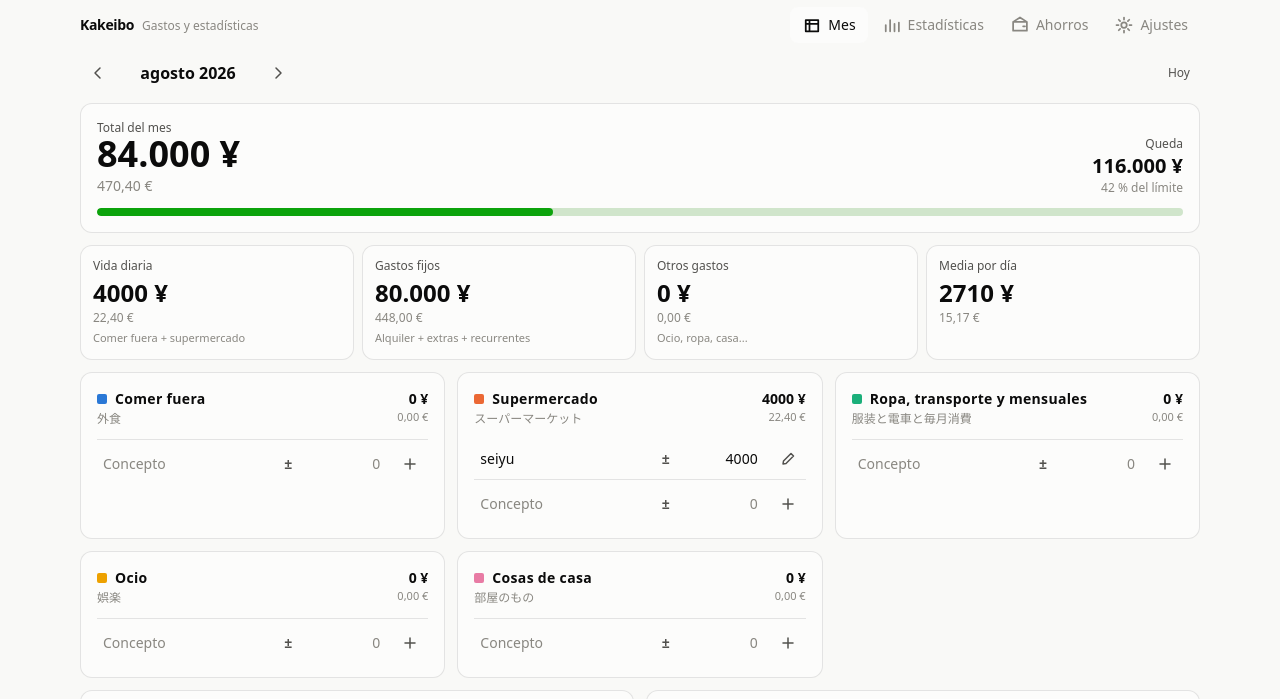
Test: la aplicacion › sincronizacion: sin configurar pide los datos del proyecto
Click the button "Ajustes": coordinates (1151, 25) [1102, 7, 1200, 43]
(page scrolled)
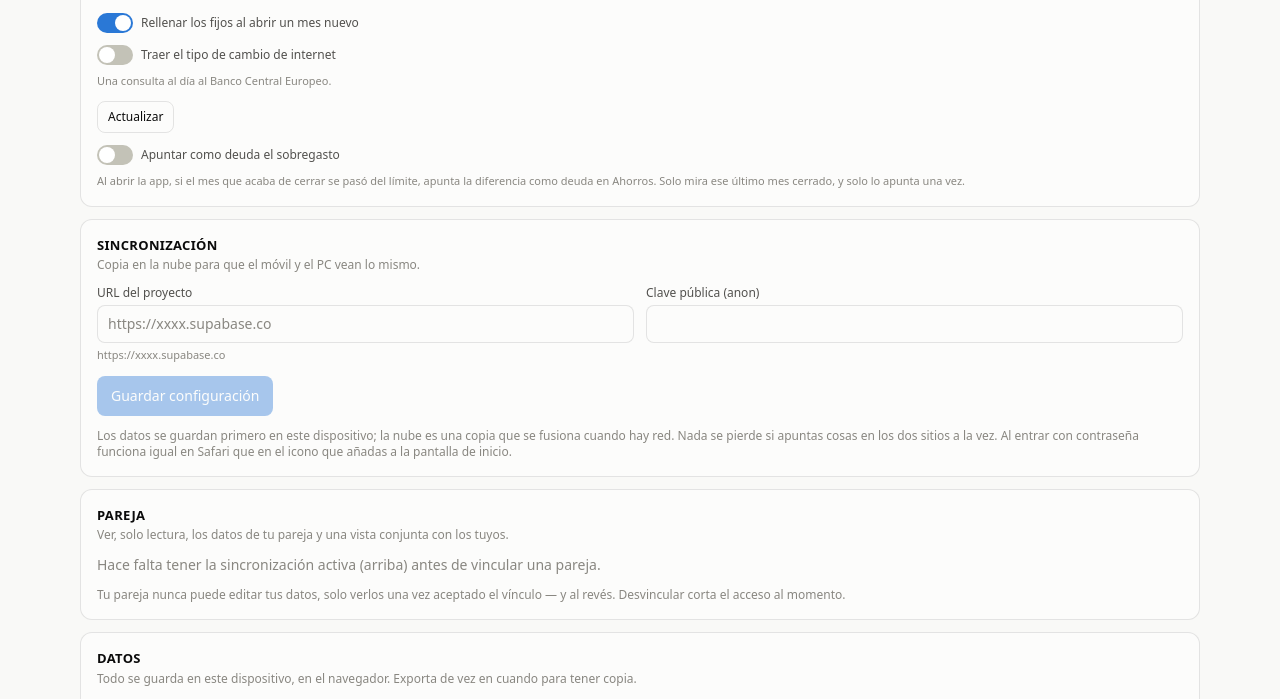
Expected: the heading "Sincronización" is shown, [97, 236, 218, 254]
Expected: the field labelled "URL del proyecto" is shown, [97, 305, 634, 343]
Expected: the button "Guardar configuración" is disabled, [97, 376, 273, 416]
